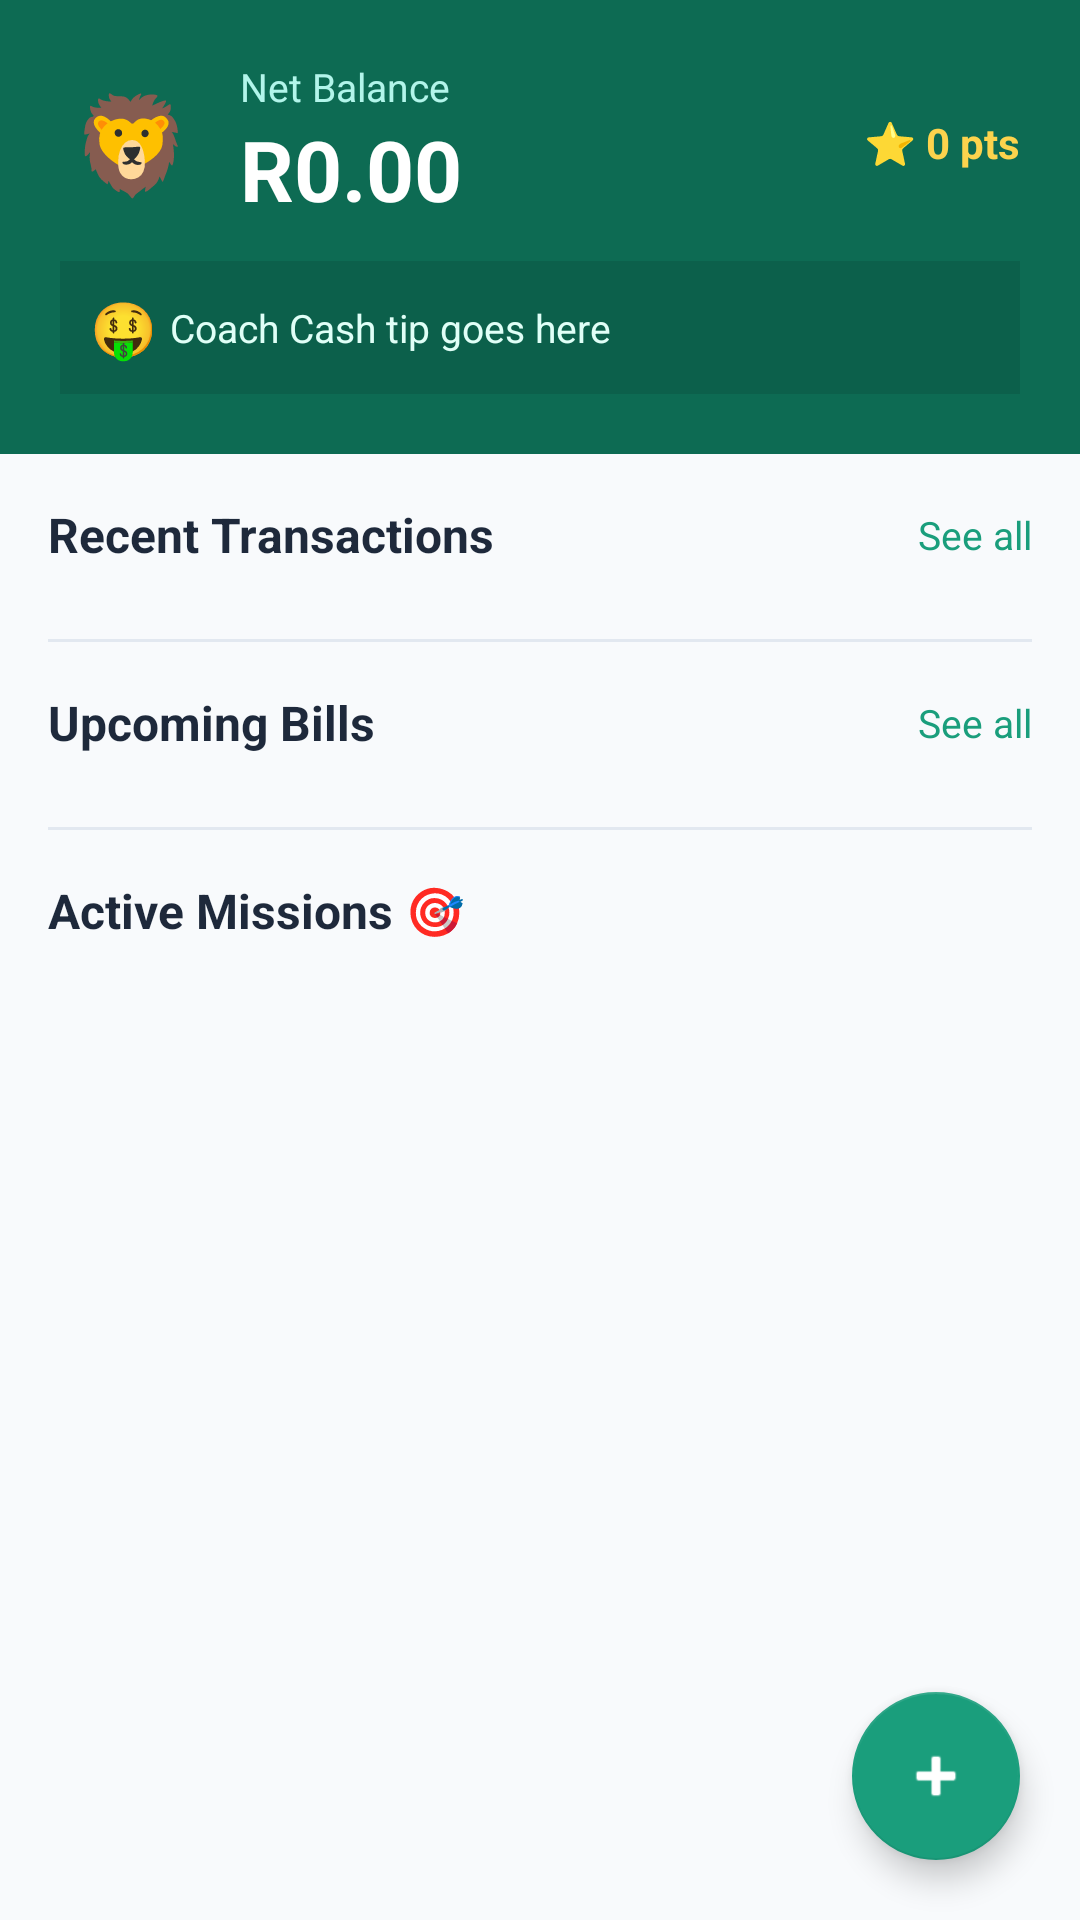

Where to tap for icons on this 1080*1920 app screen, as (x,y):
Add transaction: (936,1776)
